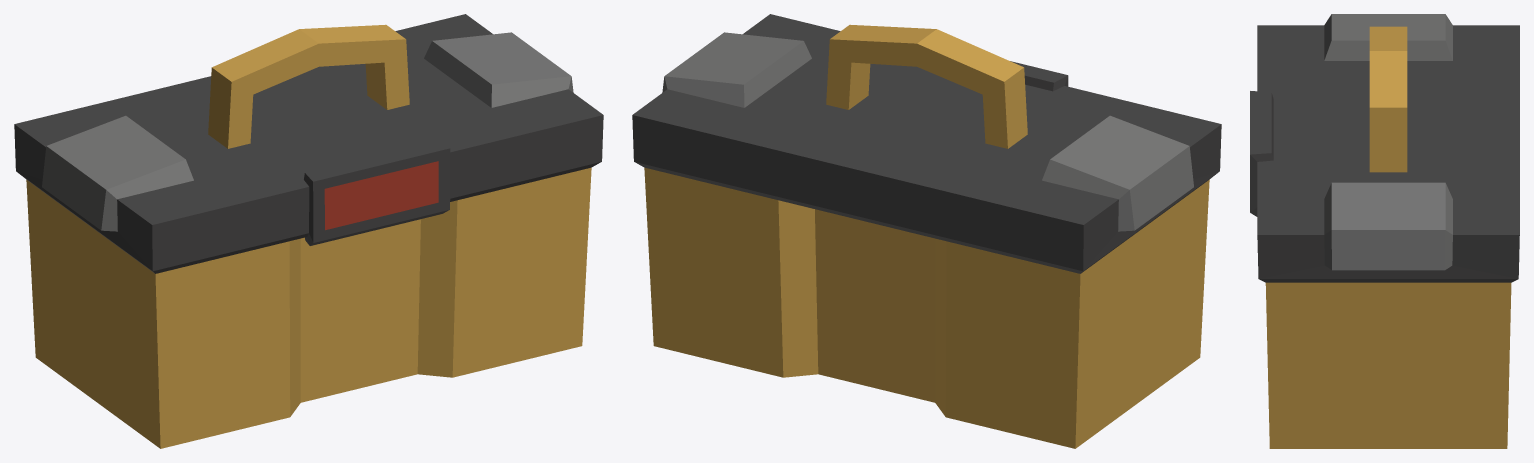
File: ToolBox.obj
The picture shows the model from 3 angles, left to right: view 1: azimuth 30°, elevation 25°; view 2: azimuth 150°, elevation 25°; view 3: azimuth 270°, elevation 25°; orthographic projection. The views are drawn at different scales.
Size of the model in its own units: 0.3938 by 0.25 by 0.2036.
1 material, 1 textured.
